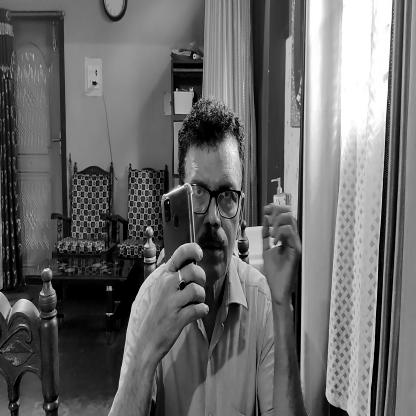Normal: (184, 99, 246, 275)
